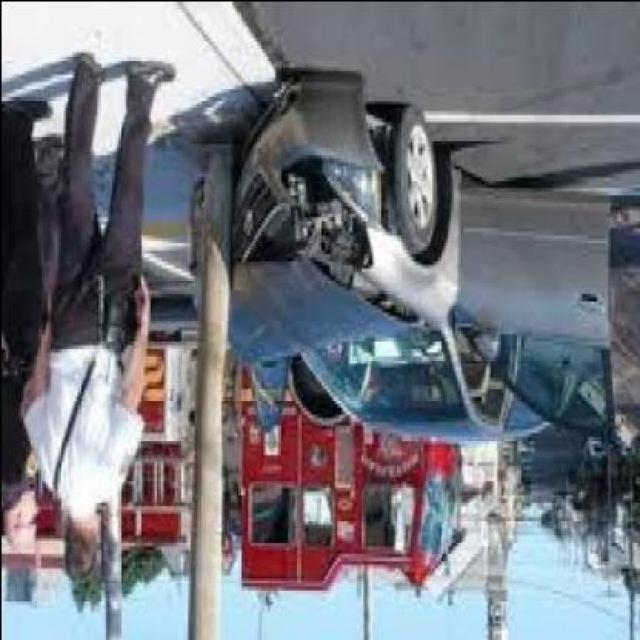damage: (189, 56, 417, 330)
